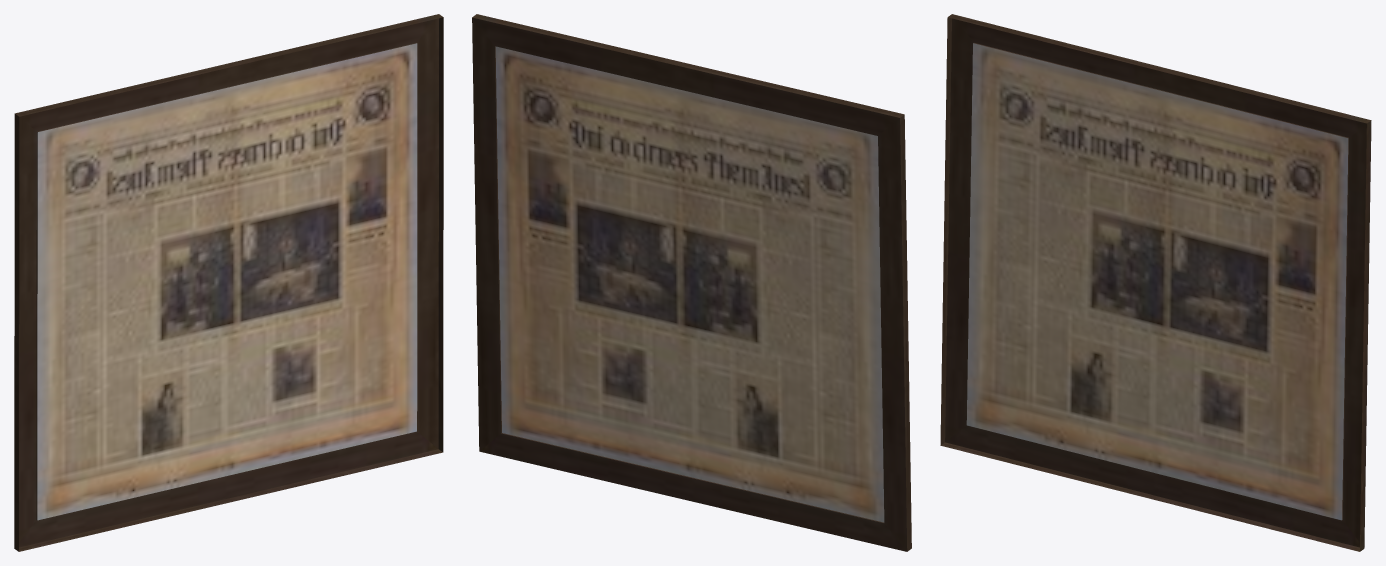
The model's file is picture-newspaper-2.glb.
The picture shows the model from 3 angles, left to right: view 1: azimuth 30°, elevation 25°; view 2: azimuth 150°, elevation 25°; view 3: azimuth 330°, elevation 25°; orthographic projection. The views are drawn at different scales.
Parts seen in each view (by area): view 1: picture-newspaper-2; view 2: picture-newspaper-2; view 3: picture-newspaper-2.
Boxes of the visible parts, <box> form: picture-newspaper-2: <box>14,14,443,551</box>; picture-newspaper-2: <box>472,14,911,551</box>; picture-newspaper-2: <box>940,14,1371,551</box>.
Bounding box in the file's own units: 0.2658 × 0.2587 × 0.00868.
Materials: 1 (1 with a texture image).
